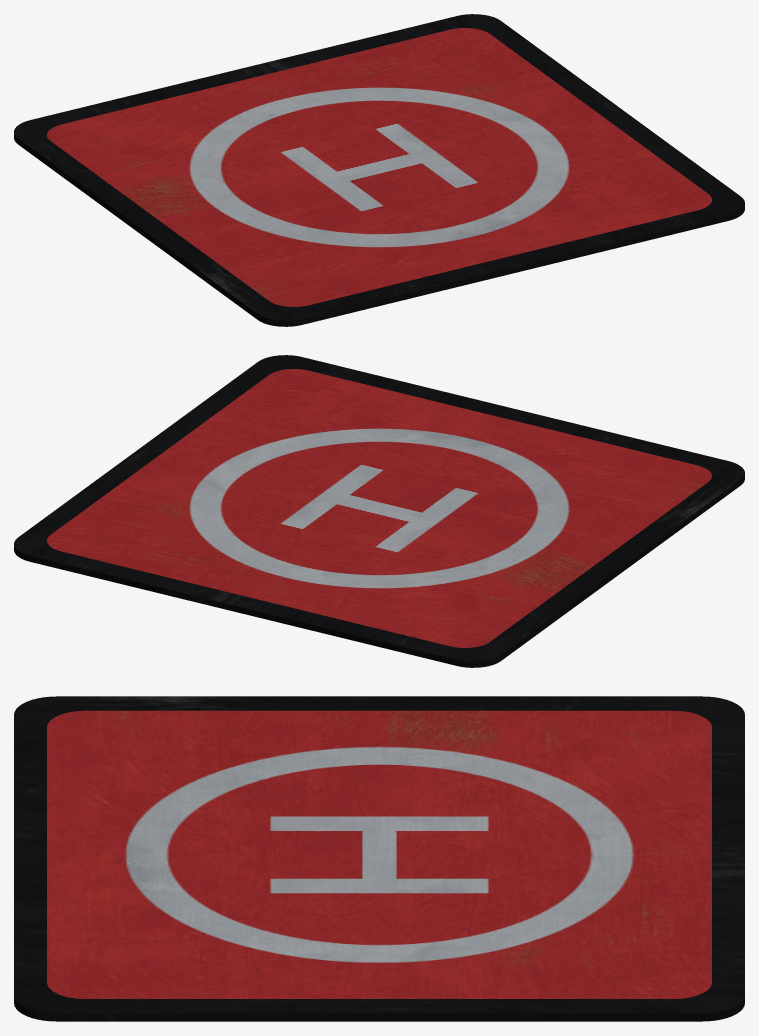
The model's file is e_color_DronePadForCar_red.fbx.
3 renders of one model, top to bottom at view 1: azimuth 30°, elevation 25°; view 2: azimuth 150°, elevation 25°; view 3: azimuth 270°, elevation 25°, orthographic. The views are drawn at different scales.
Visible parts, largest first — view 1: DronePadForCar_blue; view 2: DronePadForCar_blue; view 3: DronePadForCar_blue.
Part boxes in pixels (x1,y1,x2,y2): DronePadForCar_blue: (14,14,744,326); DronePadForCar_blue: (14,355,744,667); DronePadForCar_blue: (14,696,744,1021).
Size of the model in its own units: 151 by 1.81 by 147.
